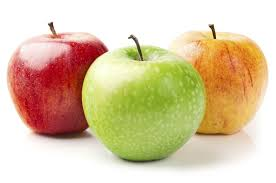apple: (78, 45, 205, 162), (173, 30, 269, 142), (10, 34, 111, 133)
